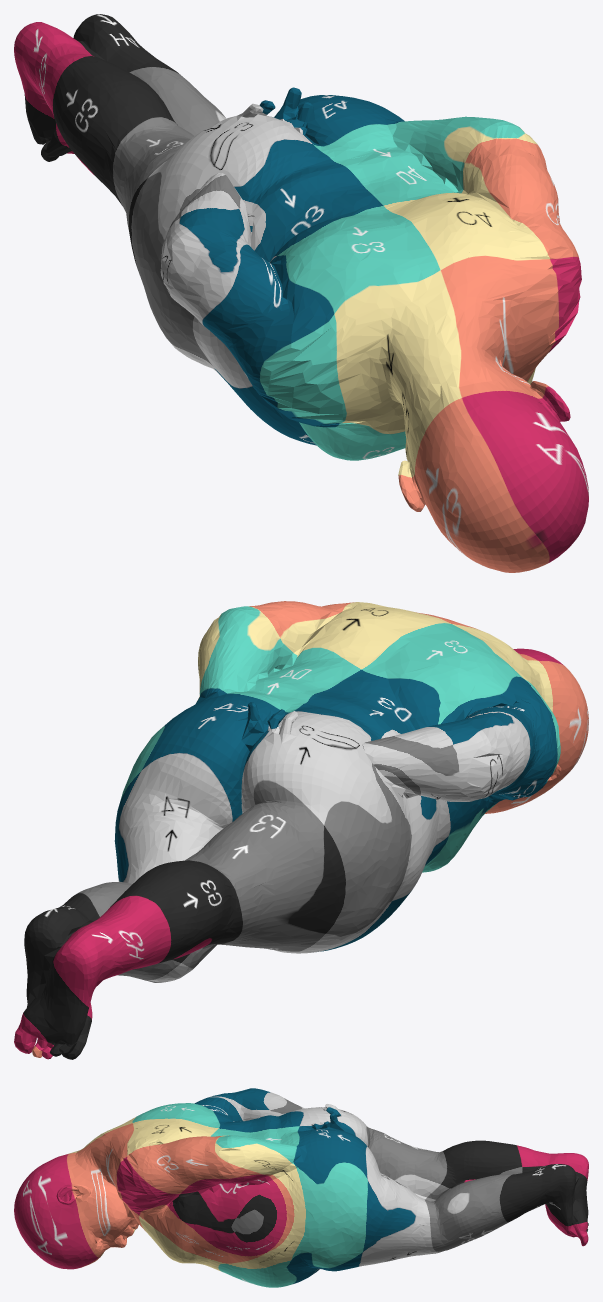
Rendered from kid00-kid03.obj.
3 renders of one model, top to bottom at view 1: azimuth 30°, elevation 25°; view 2: azimuth 150°, elevation 25°; view 3: azimuth 270°, elevation 25°, orthographic. The views are drawn at different scales.
Visible parts, largest first — view 1: kid00-kid03_export; view 2: kid00-kid03_export; view 3: kid00-kid03_export.
Boxes of the visible parts, box(x1,y1,x2,y2) form: kid00-kid03_export: box(14, 14, 588, 572); kid00-kid03_export: box(14, 601, 588, 1059); kid00-kid03_export: box(14, 1088, 588, 1287).
Size of the model in its own units: 0.4126 by 0.3565 by 1.08.
1 material, 1 textured.
